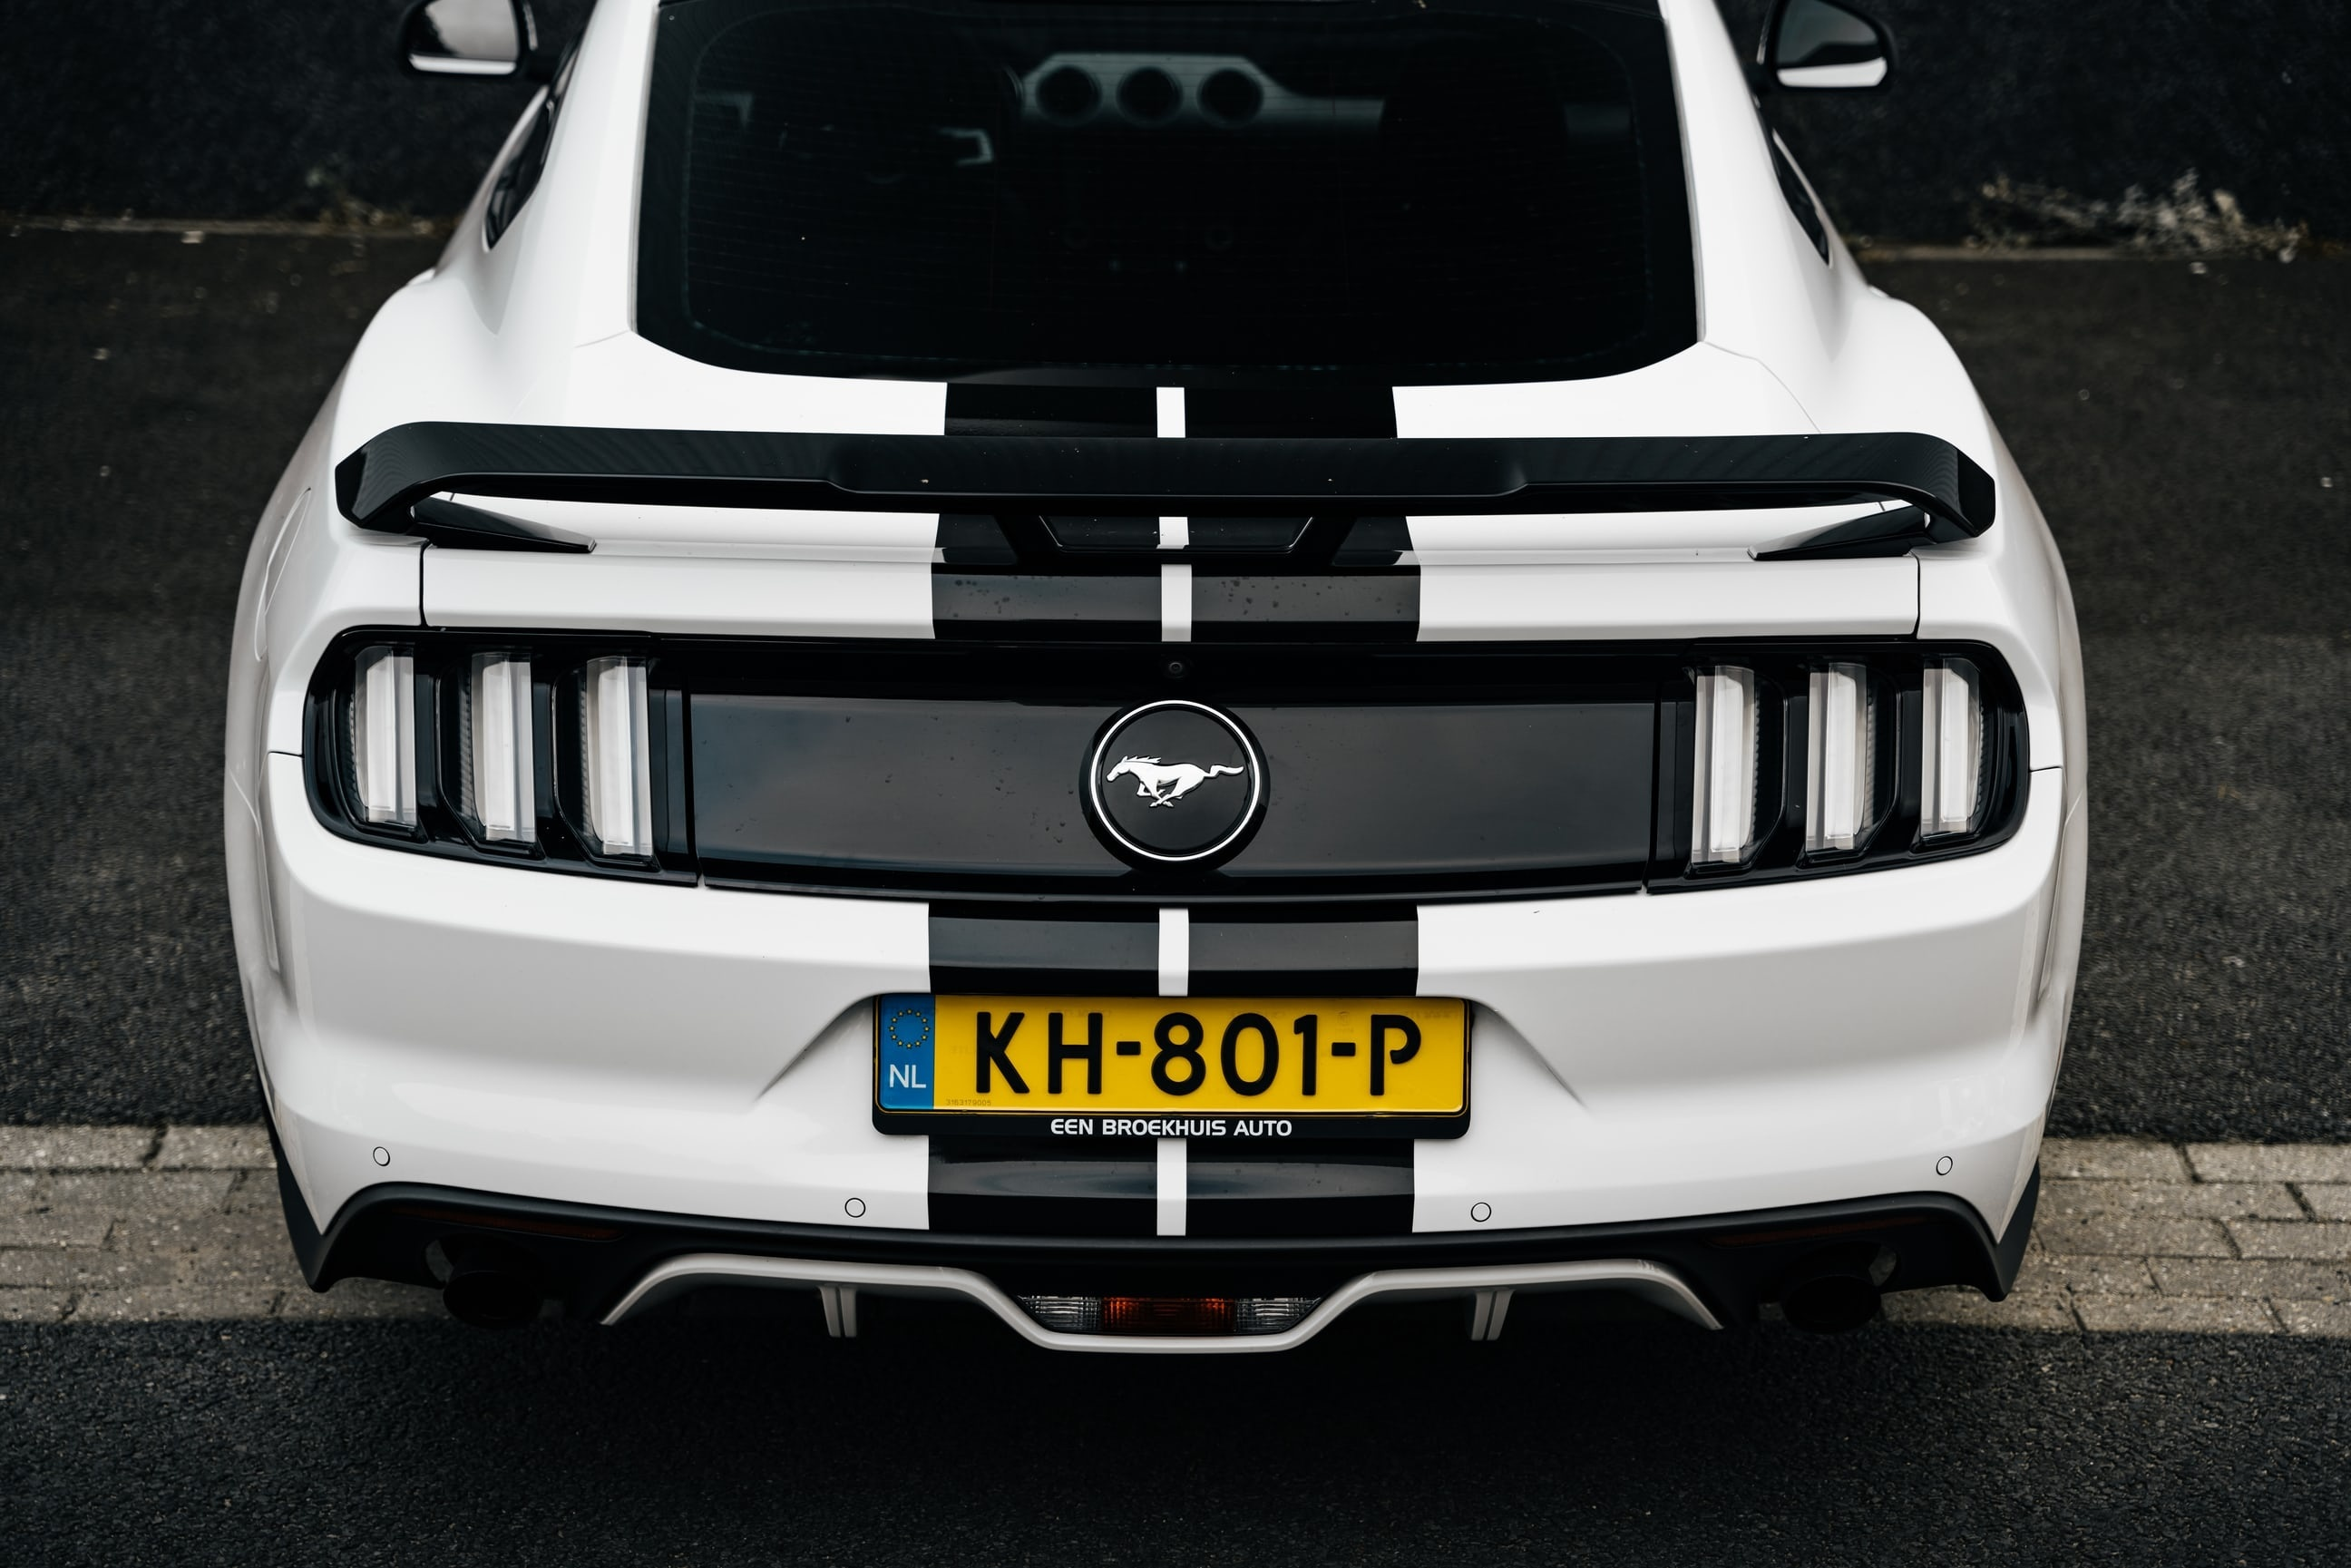plaka: (871, 988, 1470, 1120)
